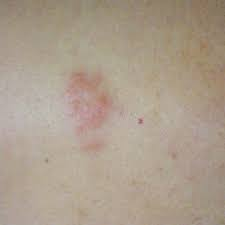herpes: (59, 70, 131, 158)
